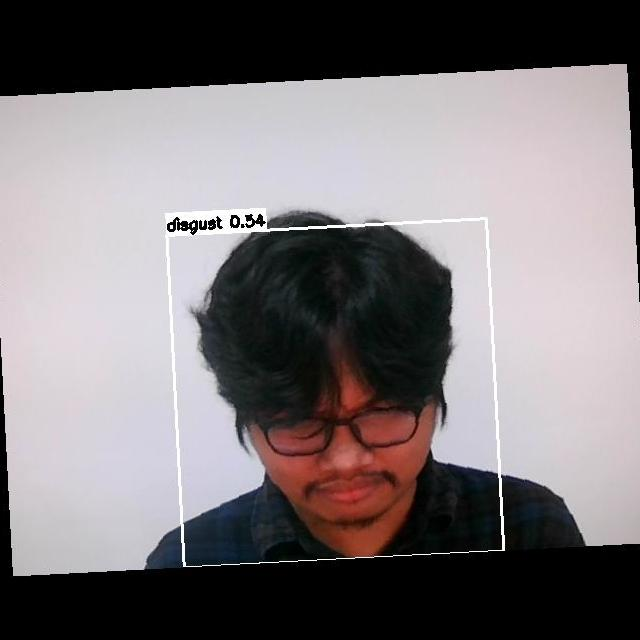Disgust: (241, 367, 436, 525)
